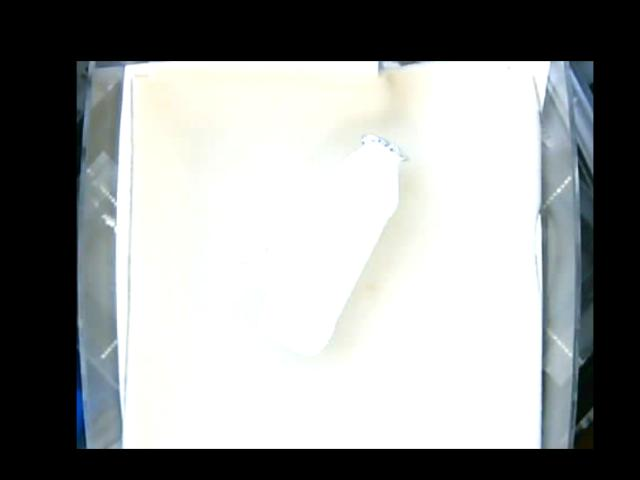Bottle: (259, 133, 410, 353)
